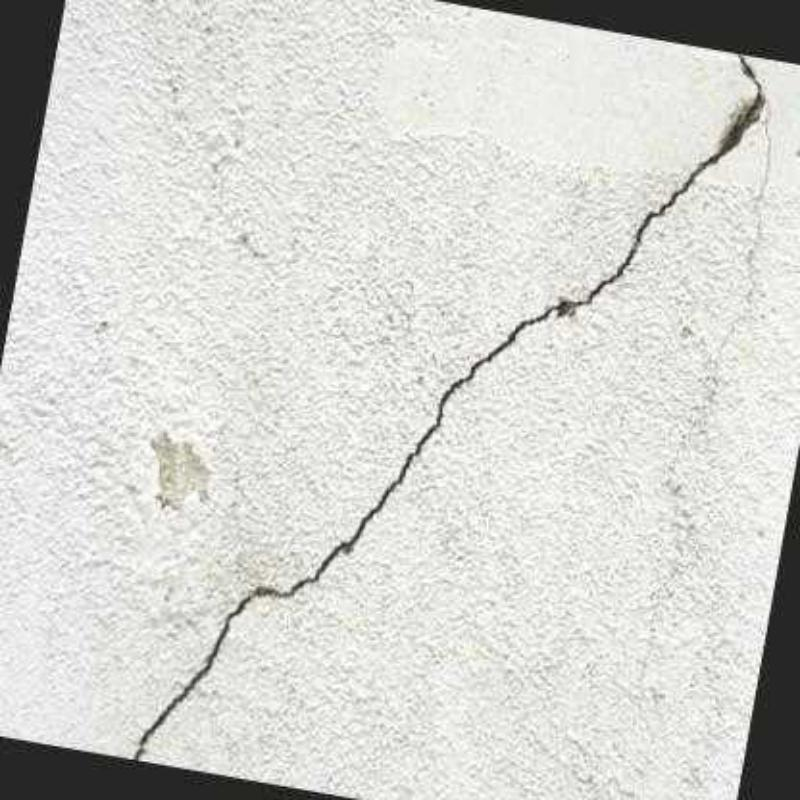crack: (130, 52, 768, 760), (717, 102, 771, 365)
